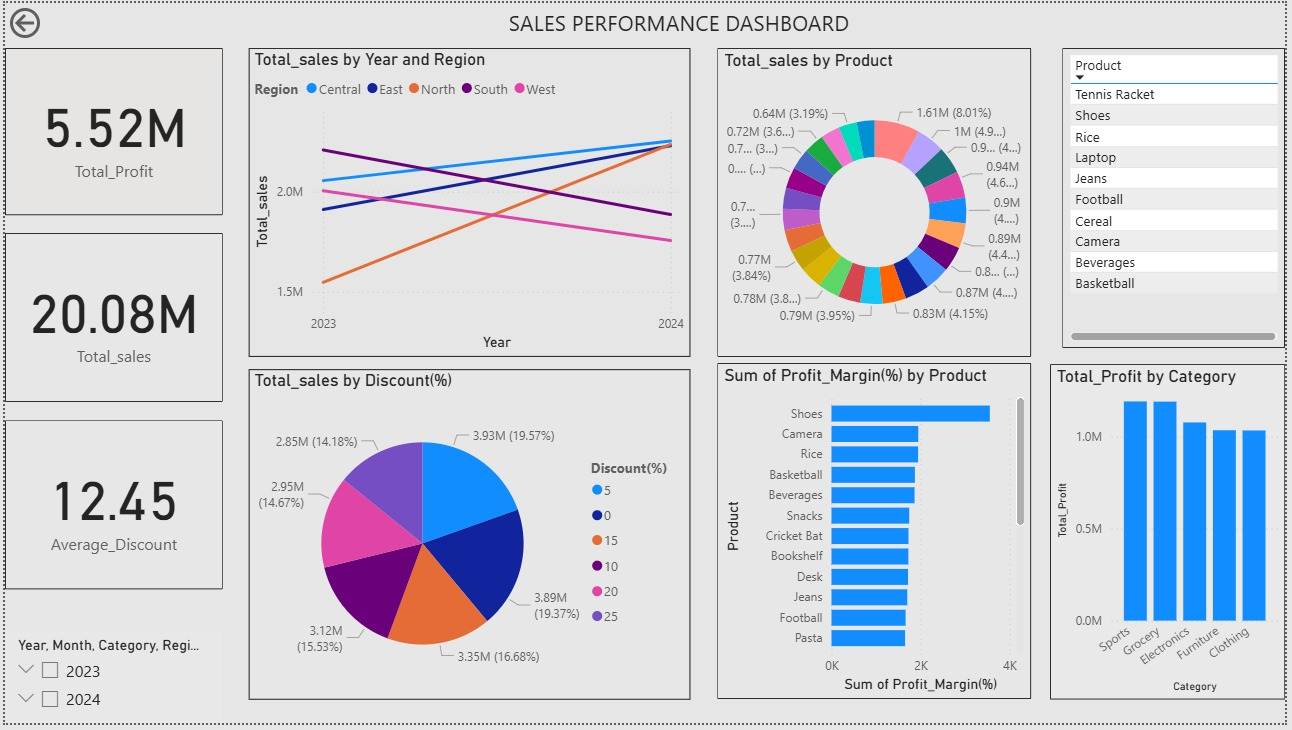

Layout of this report page (visuals, bound fields, positions):
{"tool":"powerbi","page":{"name":"Page 1","canvas":[1280,720],"ordinal":0},"visuals":[{"type":"card","fields":{"Values":["sales_performance_advanced_data.Total_Profit"]},"box":[0,45,217.5,167.5],"z":0},{"type":"card","fields":{"Values":["sales_performance_advanced_data.Total_sales"]},"box":[0,230,217.5,168.8],"z":1000},{"type":"card","fields":{"Values":["sales_performance_advanced_data.Average_Discount"]},"box":[0,417.5,217.5,168.8],"z":2000},{"type":"lineChart","fields":{"Category":["sales_performance_advanced_data.Order_Date.Variation.Date Hierarchy.Year","sales_performance_advanced_data.Order_Date.Variation.Date Hierarchy.Quarter","sales_performance_advanced_data.Order_Date.Variation.Date Hierarchy.Month","sales_performance_advanced_data.Order_Date.Variation.Date Hierarchy.Day"],"Y":["sales_performance_advanced_data.Total_sales"],"Series":["sales_performance_advanced_data.Region"]},"box":[243.8,45,441.2,308.8],"z":3000},{"type":"barChart","fields":{"Category":["sales_performance_advanced_data.Product"],"Y":["Sum(sales_performance_advanced_data.Profit_Margin(%))"]},"box":[712.5,360,313.8,336.2],"z":4000},{"type":"clusteredColumnChart","fields":{"Y":["sales_performance_advanced_data.Total_Profit"],"Category":["sales_performance_advanced_data.Category"]},"box":[1045,361.2,235,335],"z":5000},{"type":"tableEx","fields":{"Values":["sales_performance_advanced_data.Product"]},"box":[1057.5,45,222.5,300],"z":6000},{"type":"actionButton","box":[0,0,100,40],"z":7000},{"type":"pieChart","fields":{"Category":["sales_performance_advanced_data.Discount(%)"],"Y":["sales_performance_advanced_data.Total_sales"]},"box":[243.8,366.2,441.2,330],"z":8000},{"type":"slicer","fields":{"Values":["sales_performance_advanced_data.Year","sales_performance_advanced_data.Month","sales_performance_advanced_data.Category","sales_performance_advanced_data.Region","sales_performance_advanced_data.Sales_Rep"]},"box":[0,628.8,217.5,91.2],"z":9000},{"type":"donutChart","fields":{"Category":["sales_performance_advanced_data.Product"],"Y":["sales_performance_advanced_data.Total_sales"]},"box":[712.5,45,313.8,308.8],"z":10000},{"type":"textbox","box":[498.8,0,407.5,45],"z":10001}]}

Visuals, with their boxes in screenshot pixels (x1, y1, x2, y2), scaled from the page's 1280x720 canvas onto the 1292x730 screenshot:
card - sales_performance_advanced_data.Total_Profit: (0,46,220,215)
card - sales_performance_advanced_data.Total_sales: (0,233,220,404)
card - sales_performance_advanced_data.Average_Discount: (0,423,220,594)
lineChart - sales_performance_advanced_data.Order_Date.Variation.Date Hierarchy.Year x sales_performance_advanced_data.Order_Date.Variation.Date Hierarchy.Quarter: (246,46,691,359)
barChart - sales_performance_advanced_data.Product x Sum(sales_performance_advanced_data.Profit_Margin(%)): (719,365,1036,706)
clusteredColumnChart - sales_performance_advanced_data.Total_Profit x sales_performance_advanced_data.Category: (1055,366,1291,706)
tableEx - sales_performance_advanced_data.Product: (1067,46,1291,350)
actionButton: (0,0,101,41)
pieChart - sales_performance_advanced_data.Discount(%) x sales_performance_advanced_data.Total_sales: (246,371,691,706)
slicer - sales_performance_advanced_data.Year x sales_performance_advanced_data.Month: (0,638,220,729)
donutChart - sales_performance_advanced_data.Product x sales_performance_advanced_data.Total_sales: (719,46,1036,359)
textbox: (503,0,915,46)
